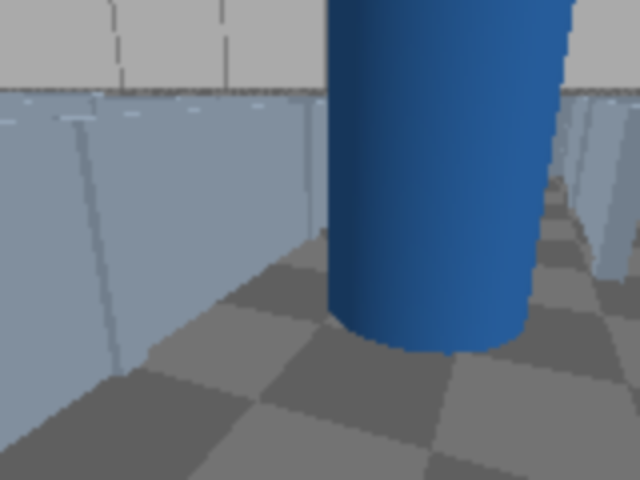person: (334, 0, 638, 349)
